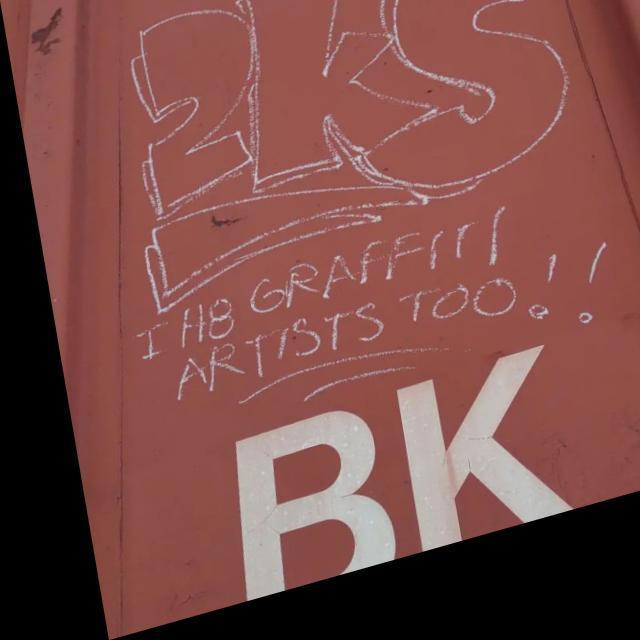-: (92, 0, 608, 455), (201, 342, 584, 608)
